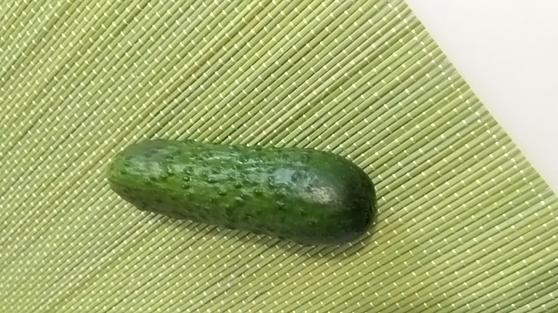cucumber: (106, 137, 378, 241)
